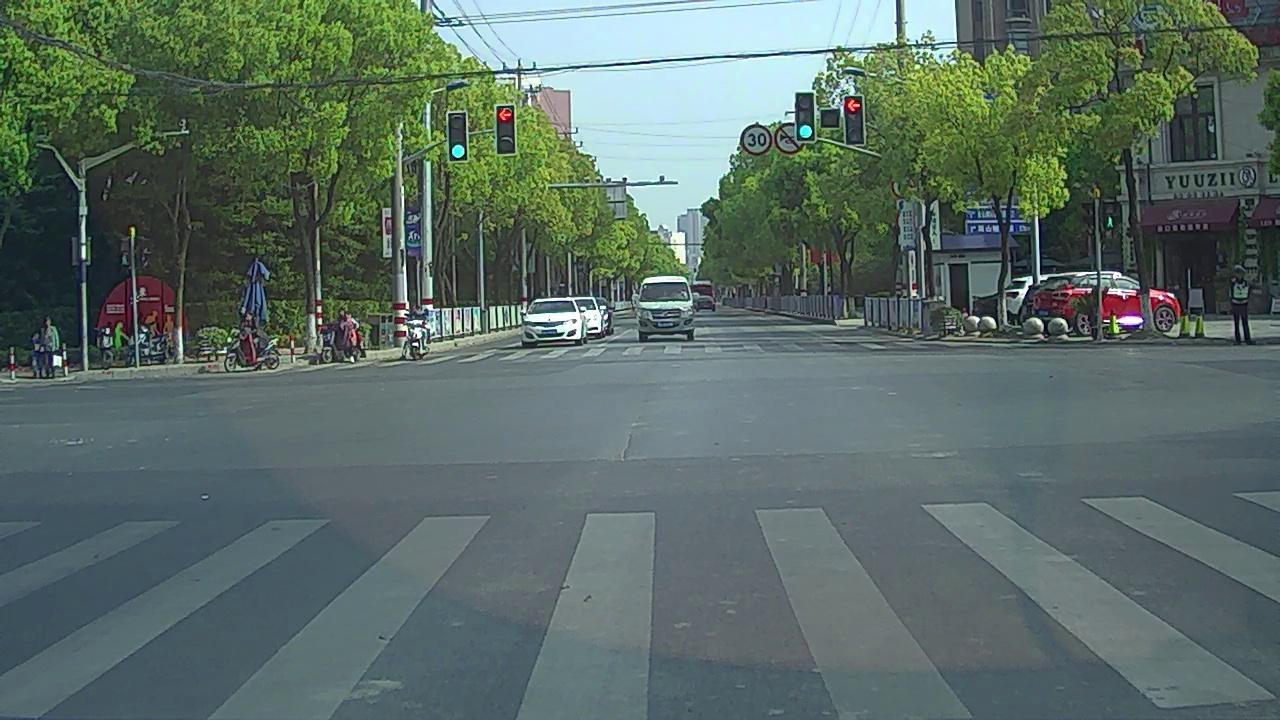traffic_light: (495, 103, 516, 155), (448, 111, 468, 162), (845, 94, 864, 143), (797, 92, 815, 141)
